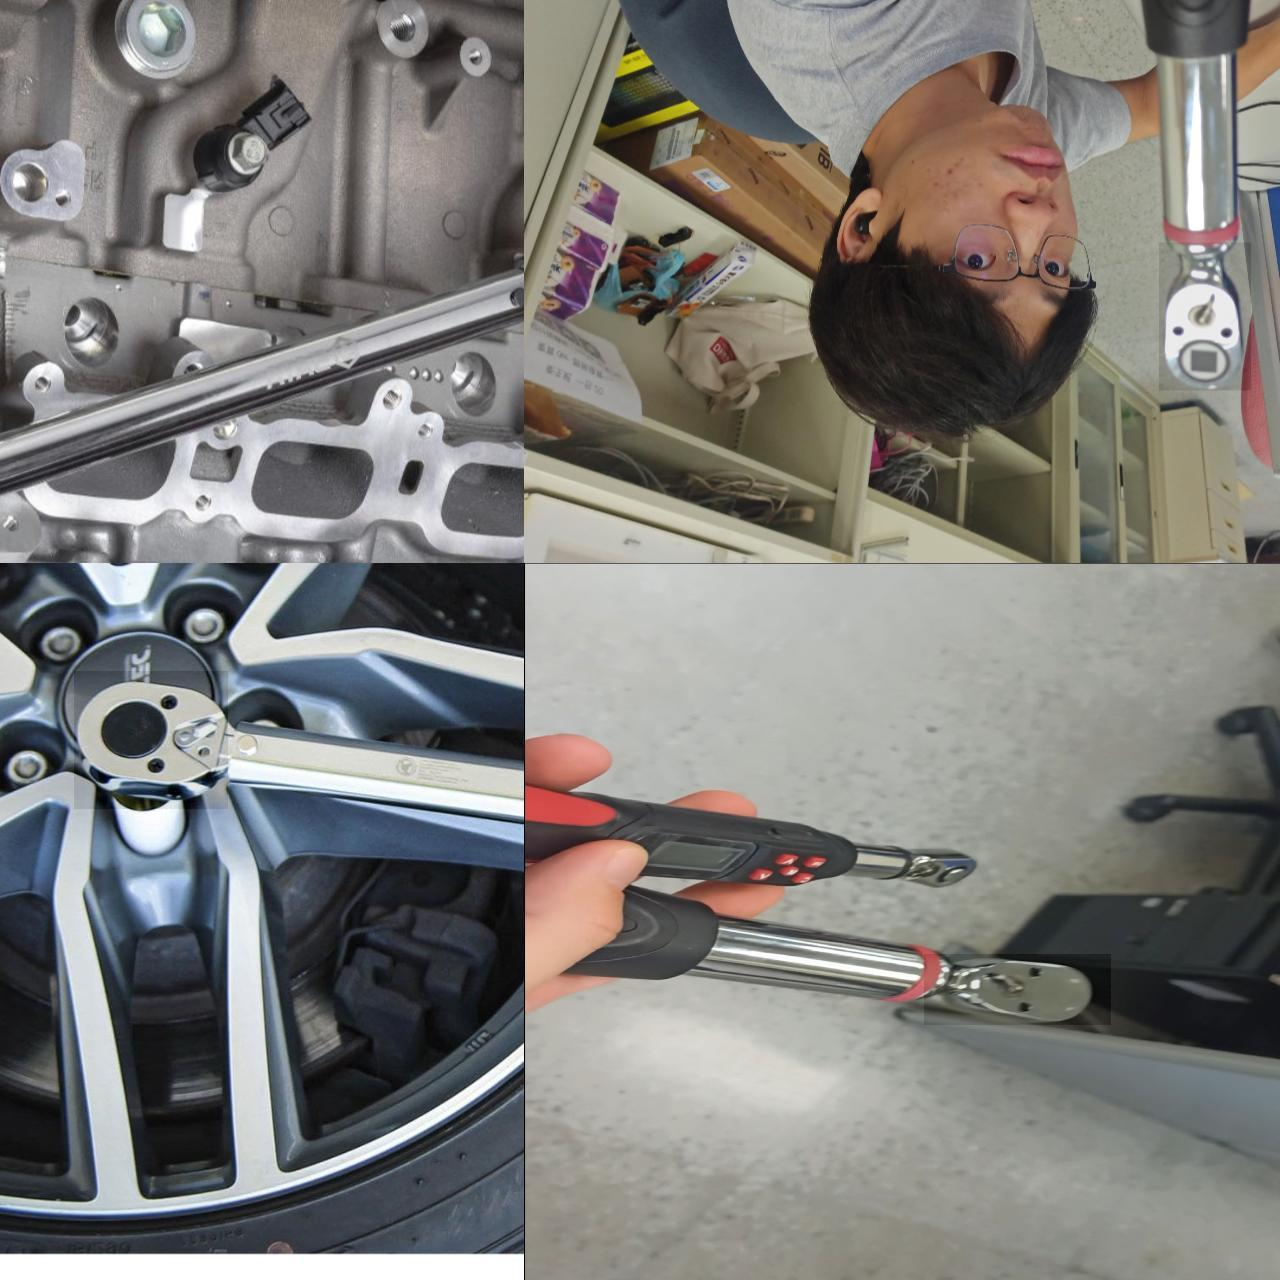Tool: (73, 670, 227, 808), (1158, 241, 1250, 390), (922, 953, 1110, 1024), (898, 847, 985, 899)
